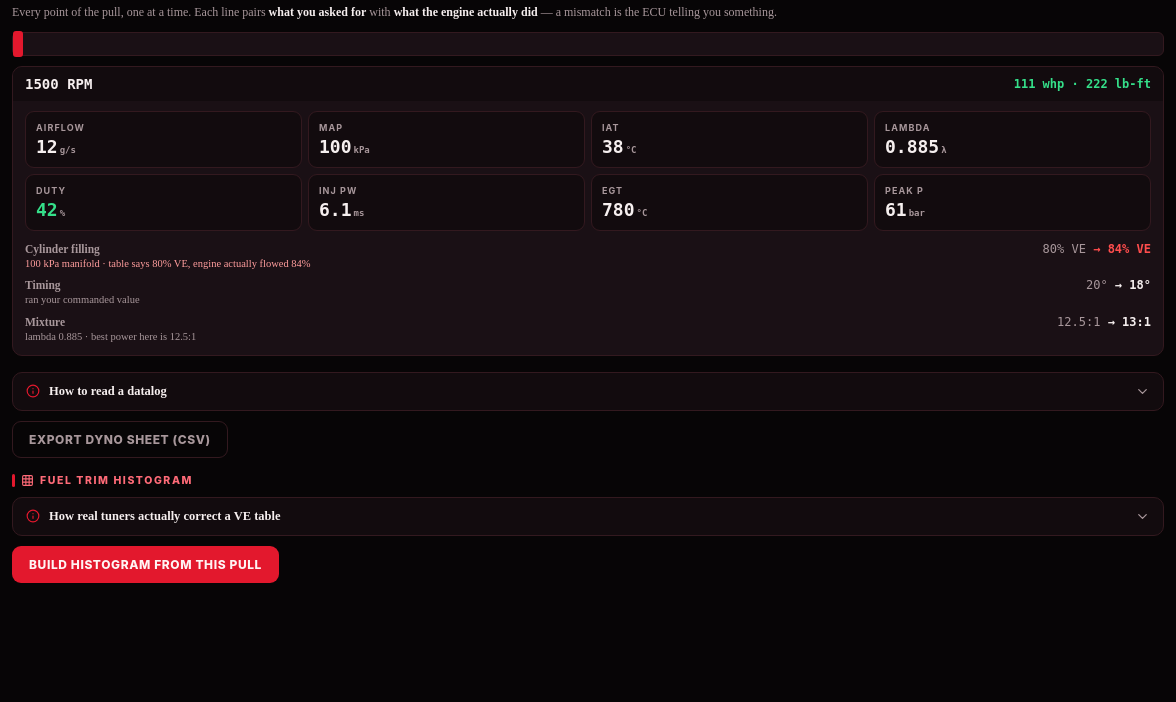
it: DataScreen › builds a histogram from the store's own result and applies it to the store's own VE table
Click the button "BUILD HISTOGRAM FROM THIS PULL": (146, 564) [12,546,279,583]
(page scrolled)
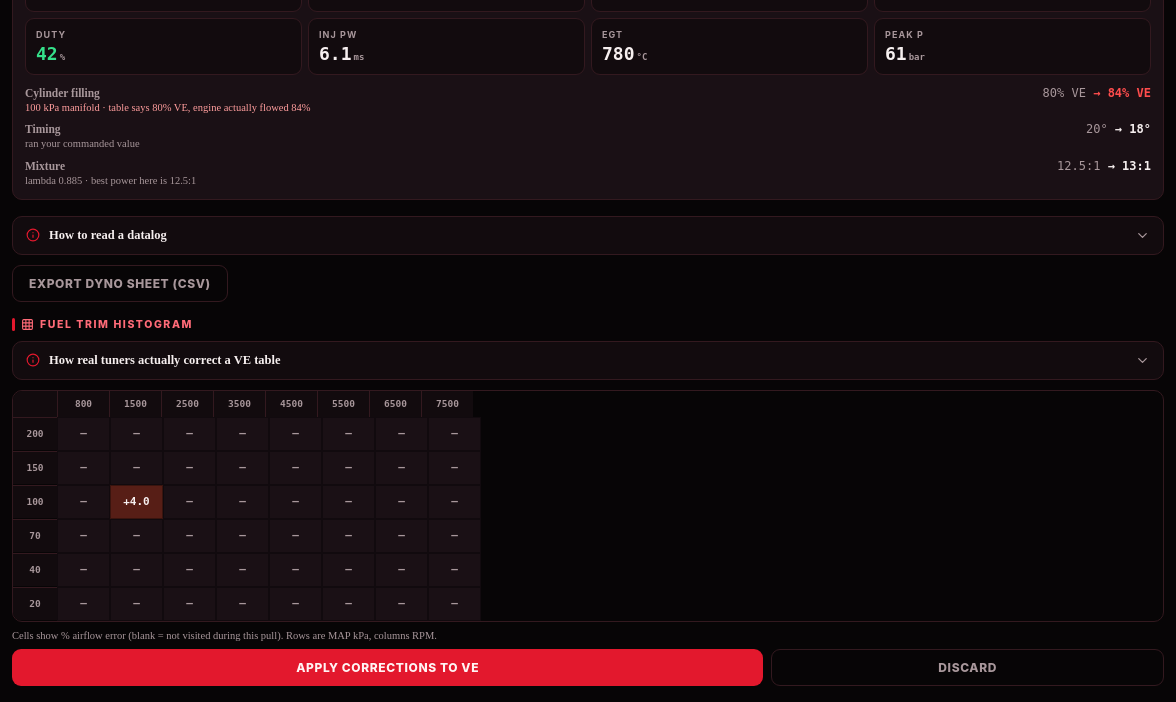
Check: the text "+4.0" is shown, box [110,485,163,519]
Click the button "APPLY CORRECTIONS TO VE": (388, 667) [12,649,763,686]
(page scrolled)
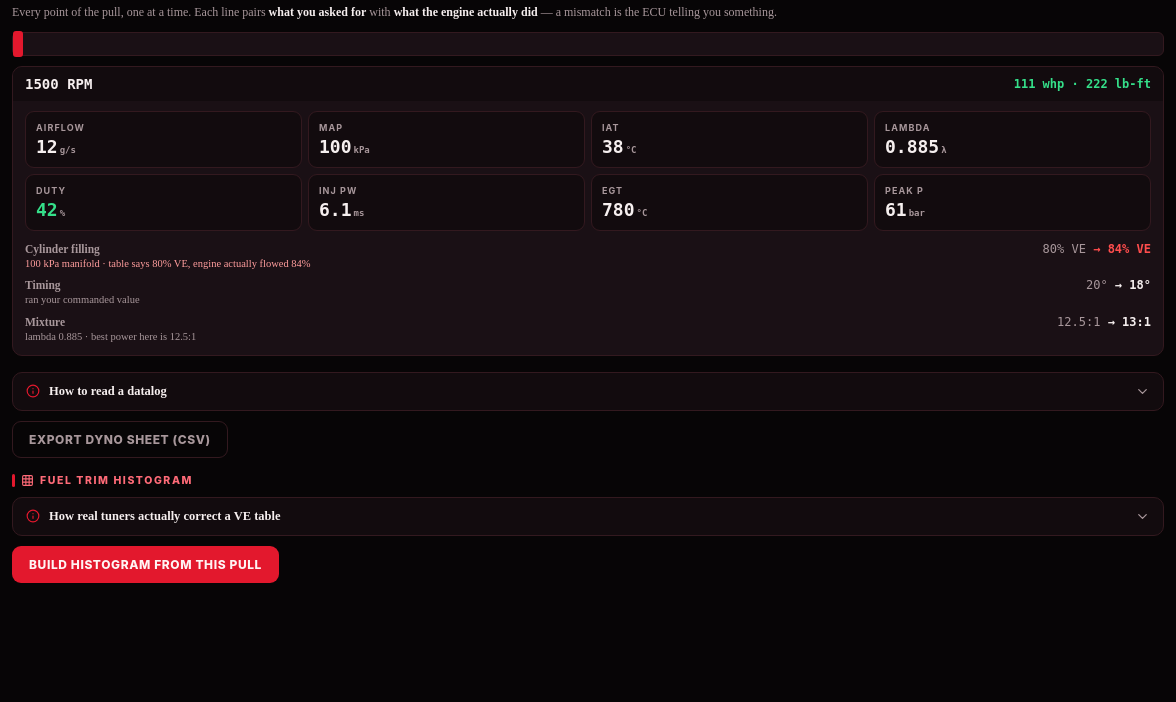
Check: the button "APPLY CORRECTIONS TO VE" is gone
Check: the button "BUILD HISTOGRAM FROM THIS PULL" is shown, box [12,546,279,583]
